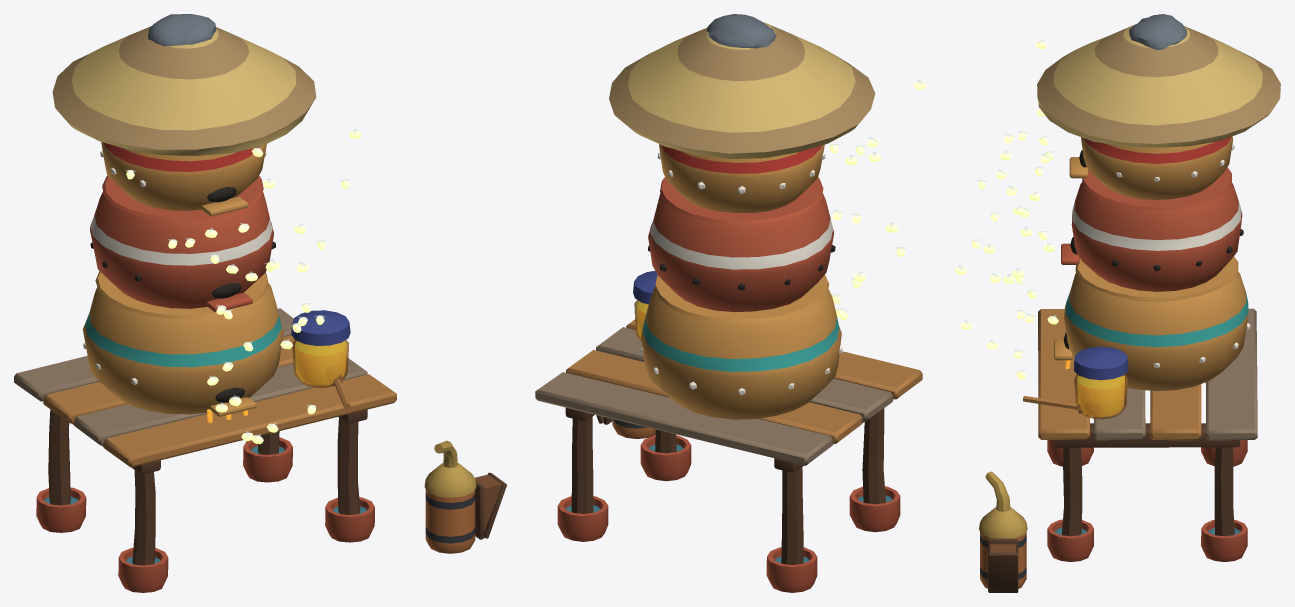
Rendered from deco_insect_hive.fbx.
The picture shows the model from 3 angles, left to right: view 1: azimuth 30°, elevation 25°; view 2: azimuth 150°, elevation 25°; view 3: azimuth 270°, elevation 25°; orthographic projection. The views are drawn at different scales.
Parts seen in each view (by area): view 1: InsectHive_Hives, InsectHive_Stand, InsectHive_Smoker, InsectHive_Jar, InsectHive_Insects; view 2: InsectHive_Hives, InsectHive_Stand, InsectHive_Insects, InsectHive_Jar, InsectHive_Smoker; view 3: InsectHive_Hives, InsectHive_Stand, InsectHive_Smoker, InsectHive_Jar, InsectHive_Insects.
Boxes of the visible parts, bbox=[...] form: InsectHive_Hives: bbox=[52, 14, 316, 416]; InsectHive_Stand: bbox=[14, 308, 396, 592]; InsectHive_Smoker: bbox=[424, 440, 506, 553]; InsectHive_Jar: bbox=[206, 310, 350, 423]; InsectHive_Insects: bbox=[125, 129, 361, 444]; InsectHive_Hives: bbox=[609, 14, 875, 419]; InsectHive_Stand: bbox=[535, 318, 922, 592]; InsectHive_Insects: bbox=[724, 15, 926, 319]; InsectHive_Jar: bbox=[633, 271, 657, 341]; InsectHive_Smoker: bbox=[596, 415, 655, 438]; InsectHive_Hives: bbox=[1037, 14, 1280, 390]; InsectHive_Stand: bbox=[1038, 308, 1257, 561]; InsectHive_Smoker: bbox=[979, 471, 1027, 592]; InsectHive_Jar: bbox=[1023, 346, 1128, 419]; InsectHive_Insects: bbox=[955, 40, 1058, 379].
Size of the model in its own units: 164 by 227 by 140.
